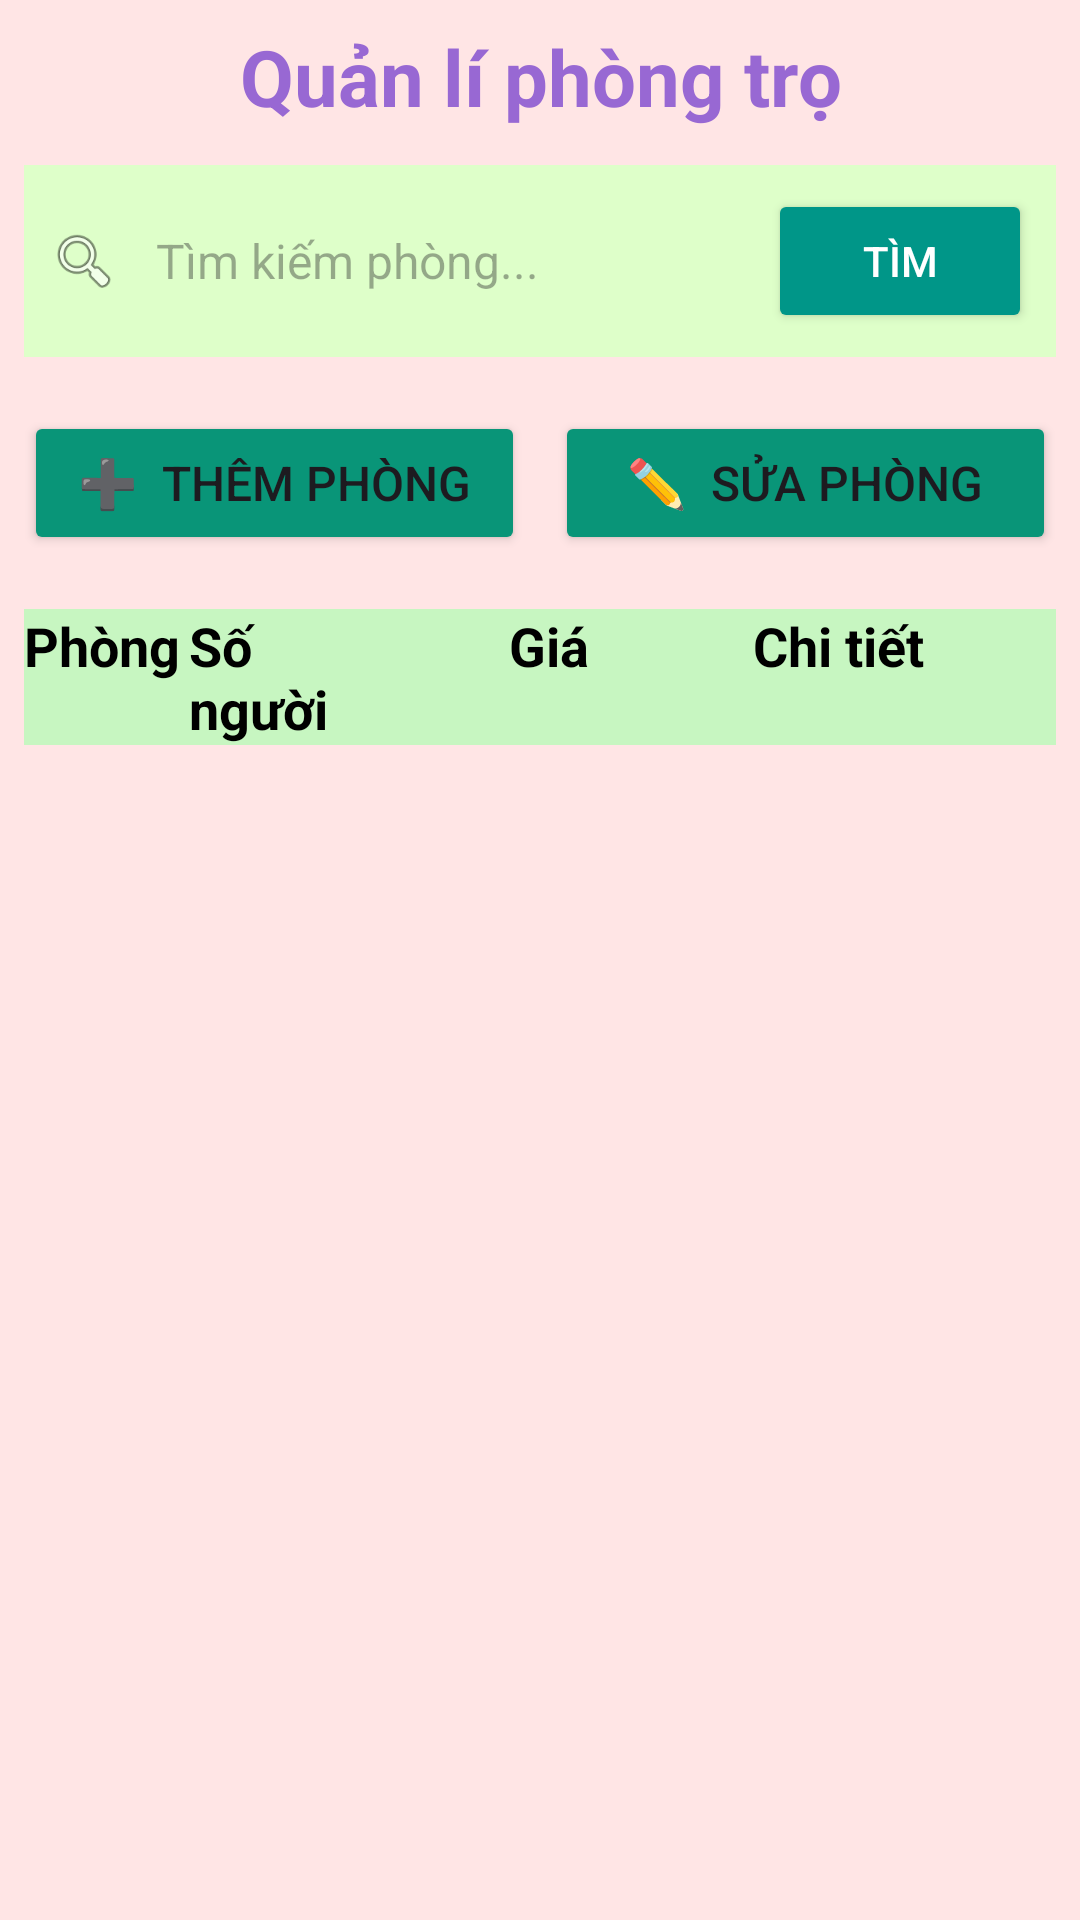

Screen size 1080 x 1920. Icon name, then its center in pixels as [x,y]:
search: [84,261]
